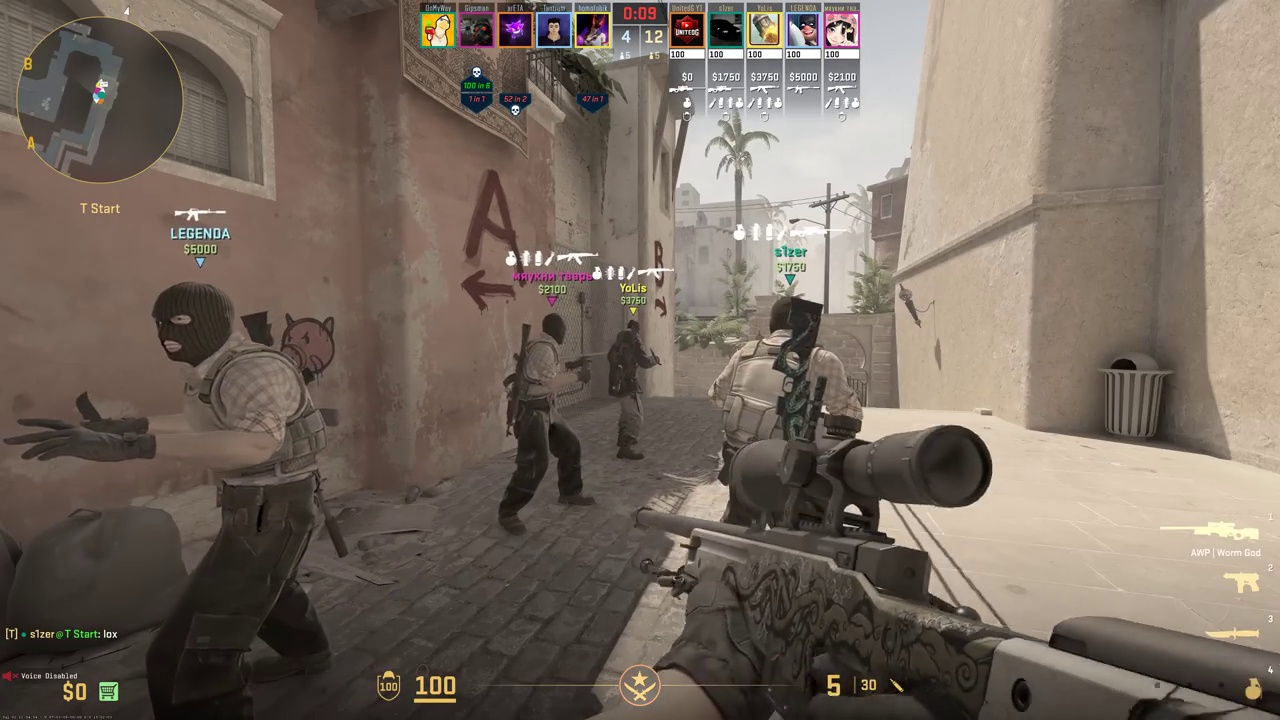Terrorist: (148, 281, 323, 717), (710, 296, 852, 530), (497, 313, 588, 536), (608, 320, 653, 460)
